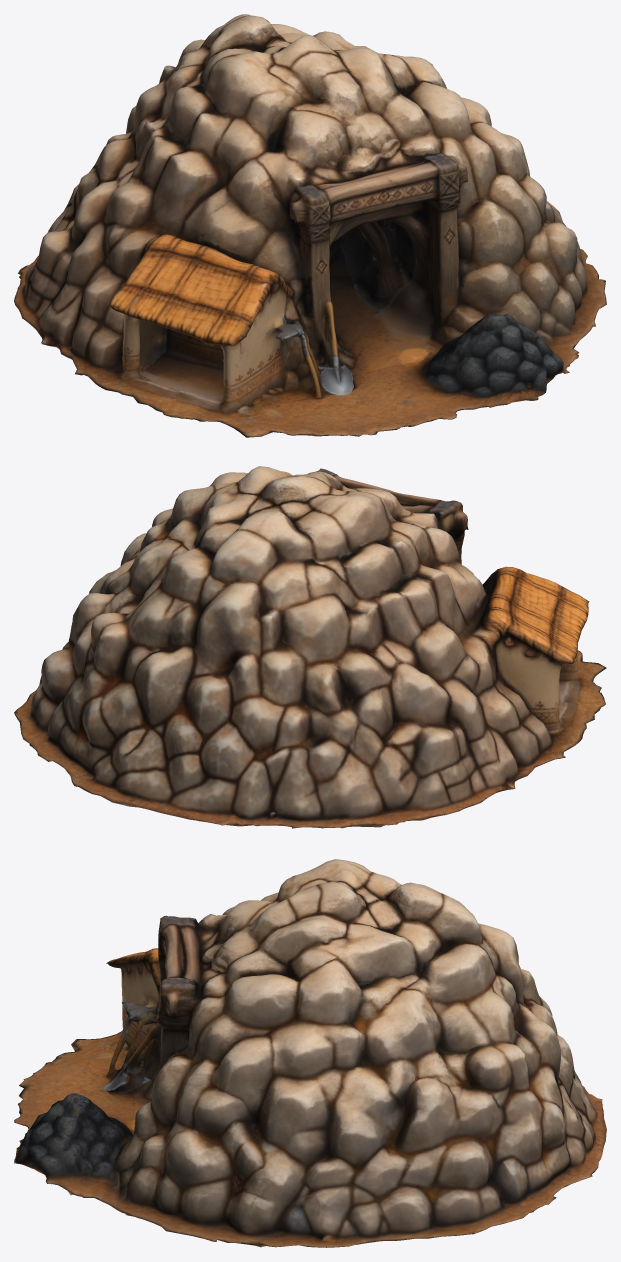
Rendered from Mine (Indian).fbx.
The picture shows the model from 3 angles, top to bottom: view 1: azimuth 30°, elevation 25°; view 2: azimuth 150°, elevation 25°; view 3: azimuth 270°, elevation 25°; orthographic projection. The views are drawn at different scales.
Parts seen in each view (by area): view 1: Mesh_0; view 2: Mesh_0; view 3: Mesh_0.
Boxes of the visible parts, x1=… form: Mesh_0: x1=14, y1=14, x2=606, y2=437; Mesh_0: x1=14, y1=466, x2=606, y2=828; Mesh_0: x1=14, y1=859, x2=606, y2=1247.
Bounding box in the file's own units: 192 × 95.07 × 200.
Materials: 1 (1 with a texture image).
